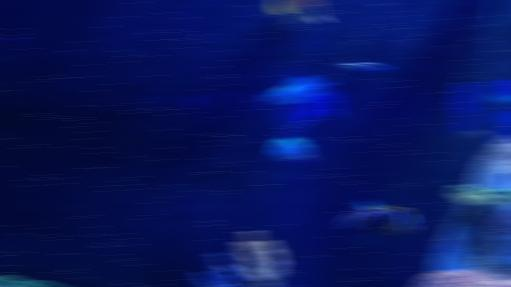Fish: (340, 199, 415, 234), (261, 76, 334, 106), (271, 0, 328, 23), (270, 136, 311, 161), (342, 62, 389, 72)
